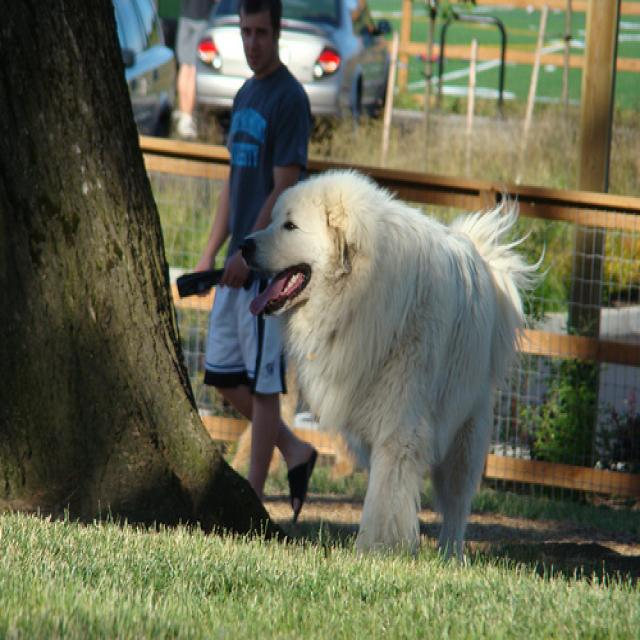dog-great_pyrenees: (234, 154, 530, 561)
